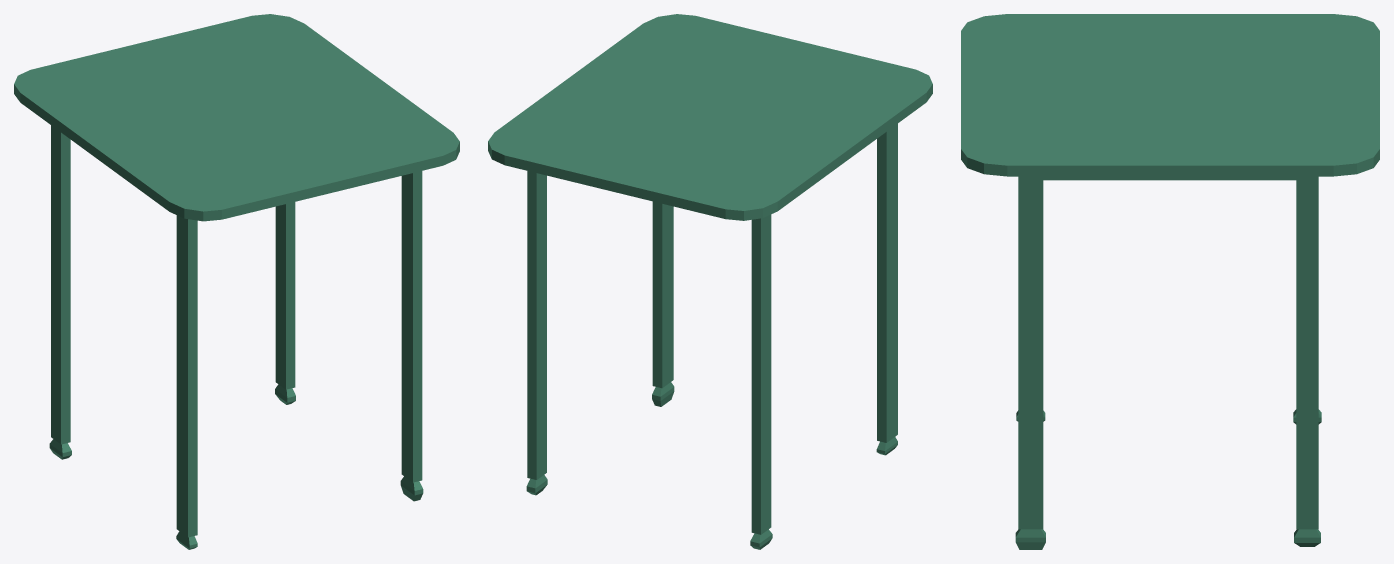
File: mesachiquiPetiza.fbx
3 views of the same model, side by side, from view 1: azimuth 30°, elevation 25°; view 2: azimuth 150°, elevation 25°; view 3: azimuth 270°, elevation 25° (orthographic). The views are drawn at different scales.
Visible parts, largest first — view 1: mesa.001; view 2: mesa.001; view 3: mesa.001.
Boxes of the visible parts, x1,y1,x2,y2 form: mesa.001: (14, 14, 459, 549); mesa.001: (488, 14, 932, 549); mesa.001: (961, 14, 1379, 549).
Bounding box in the file's own units: 60 × 73.6 × 70.
